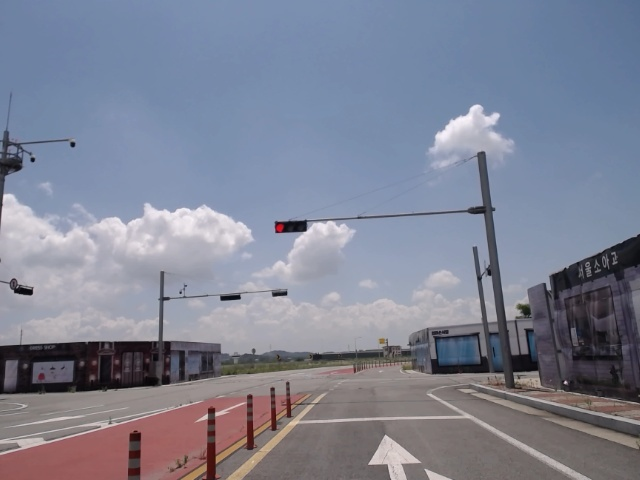red_3: (274, 218, 308, 234)
